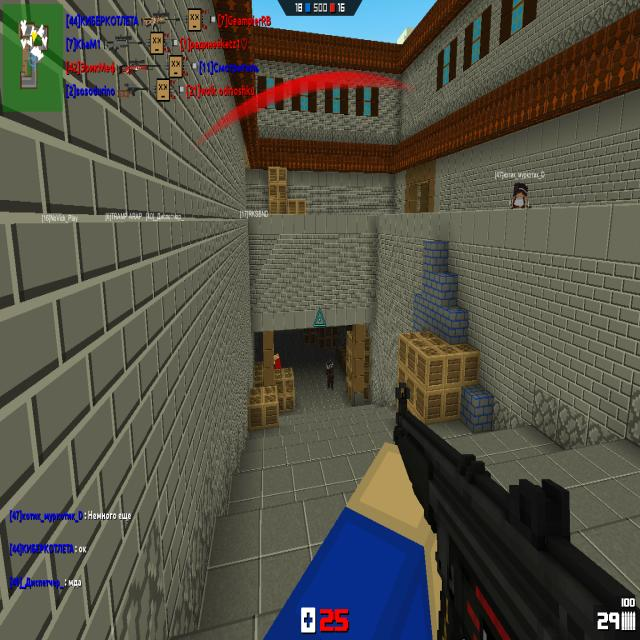enemy: (326, 359, 334, 391), (274, 352, 281, 369)
